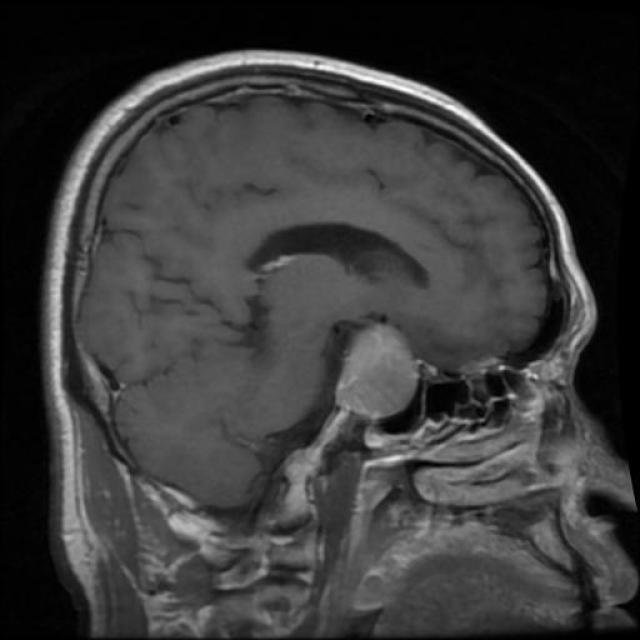pituitary: (332, 306, 434, 429)
